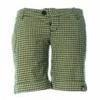bermuda: (13, 8, 86, 94)
